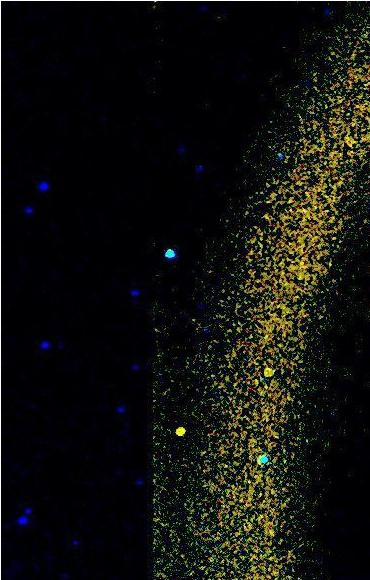star: (255, 356, 285, 386)
